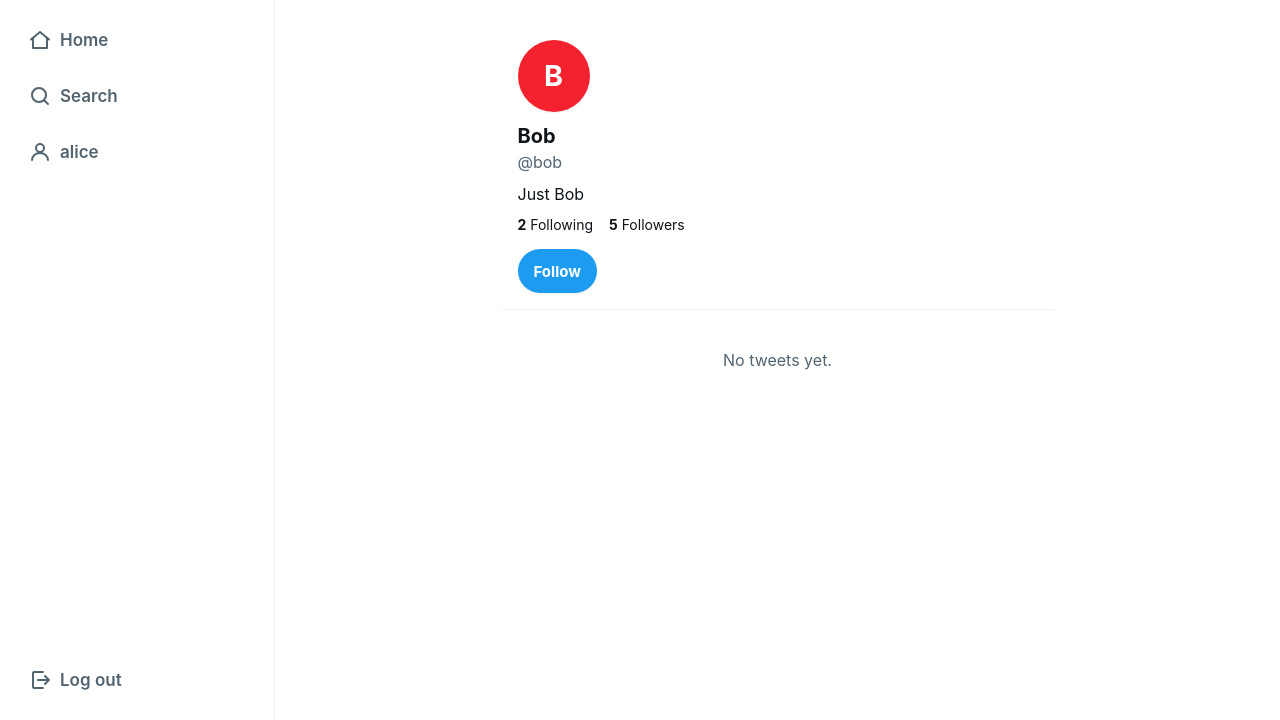
it: follow flow › follows a user and updates the button and follower count
The image size is (1280, 720).
Expected: the heading "Bob" is shown, [518, 124, 556, 148]
Expected: the text "5" is shown, [609, 216, 618, 233]
What coordinates should you click on to do the following:
click the button "Follow"
I would click on:
 (557, 271)
Its box is [518, 249, 597, 293].
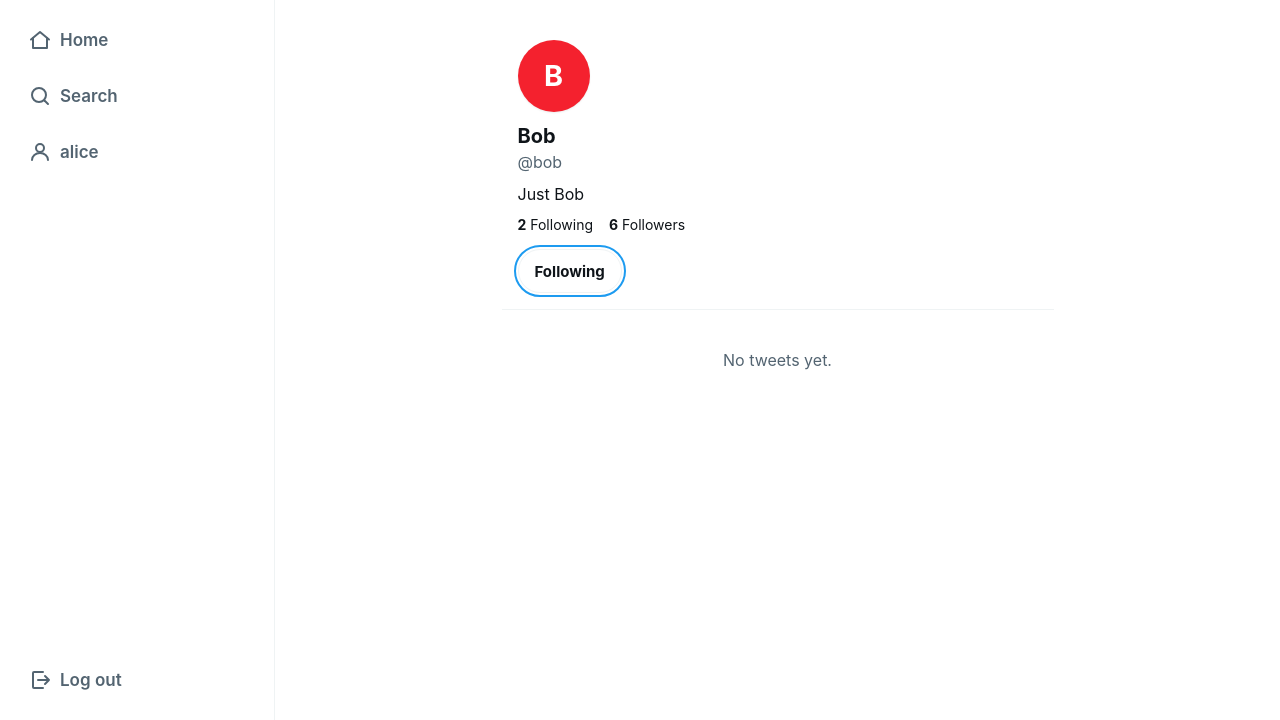
Expected: the button "Following" is shown, [518, 249, 622, 293]
Expected: the text "6" is shown, [609, 216, 618, 233]
